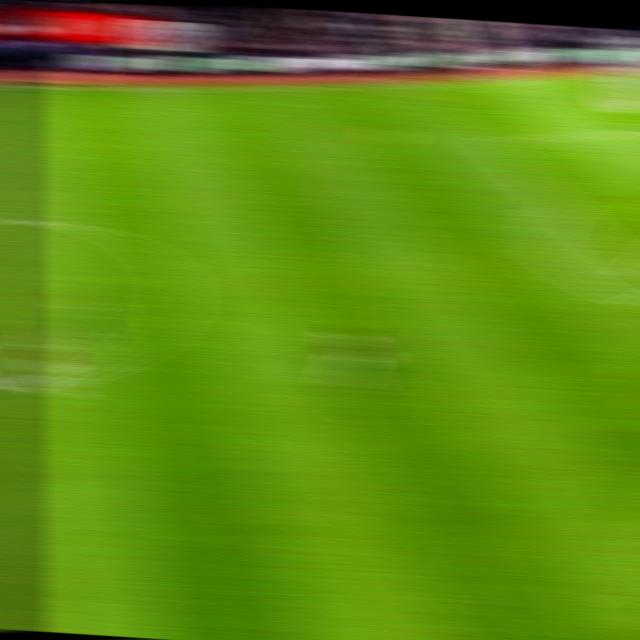bigarea_top_inner: (470, 129, 510, 152)
corner: (584, 65, 626, 82)
halfcircle_bottom: (0, 368, 25, 404)
top_arc_area_intersection: (541, 194, 581, 217)
